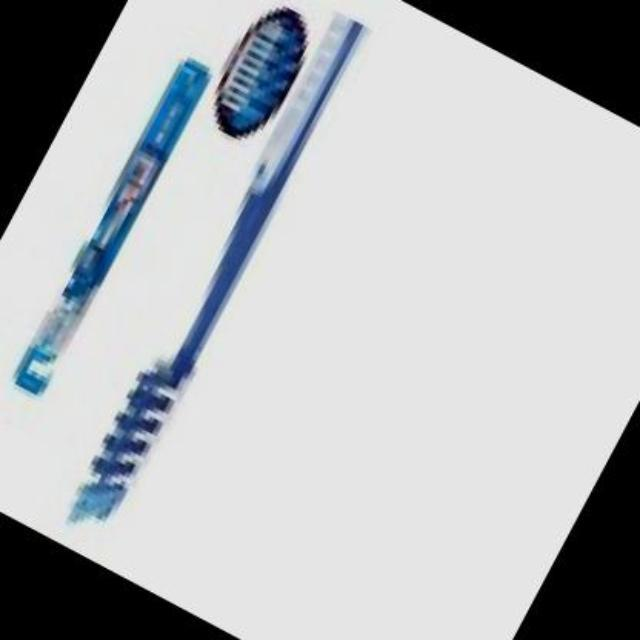toothbrush: (31, 0, 418, 566)
